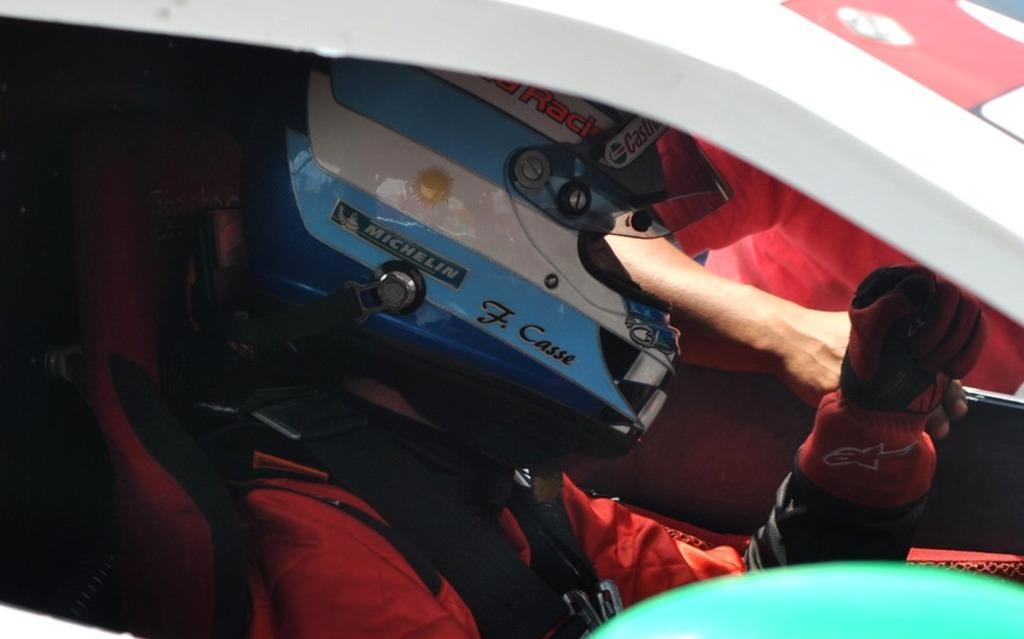helmet: (239, 22, 736, 460)
